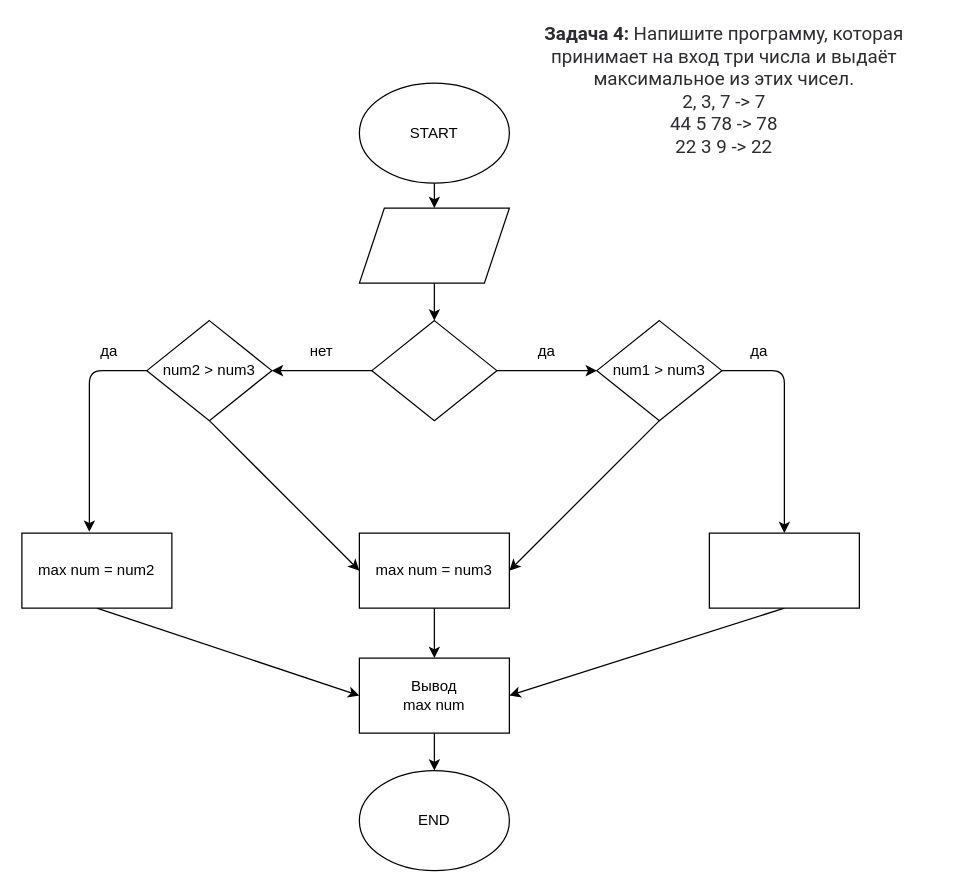
This 953x893 diagram has some shape labels left out. Each missing label, with the centre of its shape:
"max num = num1" belongs at point (783, 570).
"num1 = 2 num2 = 3 num3 = 7" belongs at point (433, 245).
"num1 > num2" belongs at point (434, 370).
